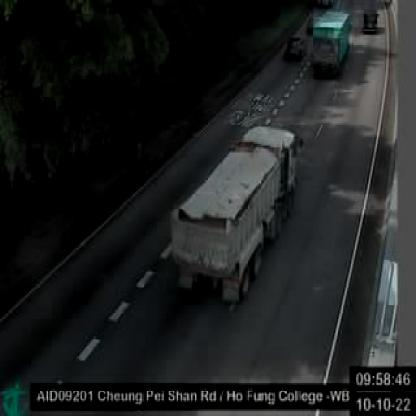Car: (284, 32, 306, 59), (362, 9, 378, 32)
Truck: (174, 122, 303, 301), (311, 8, 351, 76)
